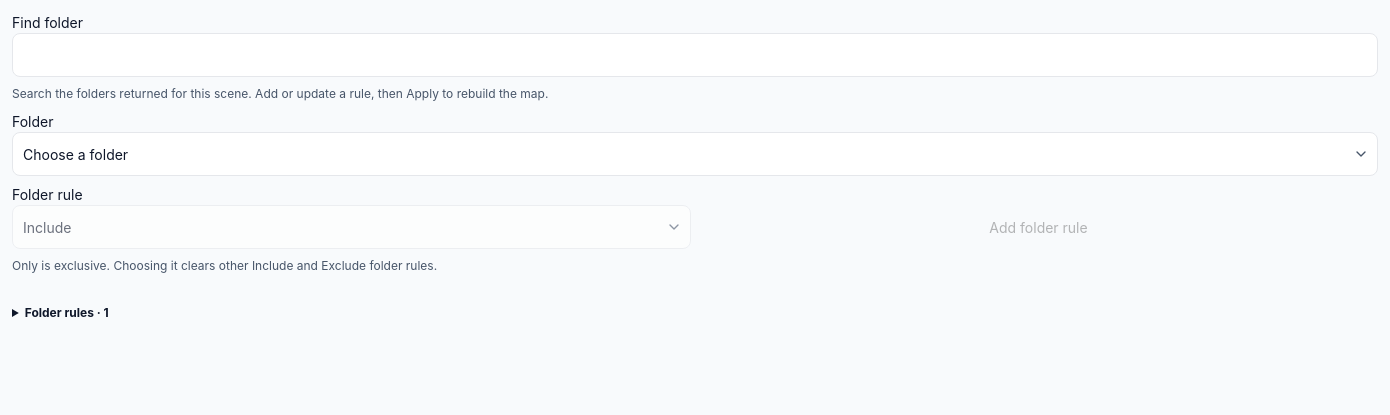
Test: WorkspaceGraphFolderFilters › lets a rule absent from current facets be edited and removed without inventing a count
Click the heading "Folder rules · 1" at (67, 312), box [25,305,109,320]
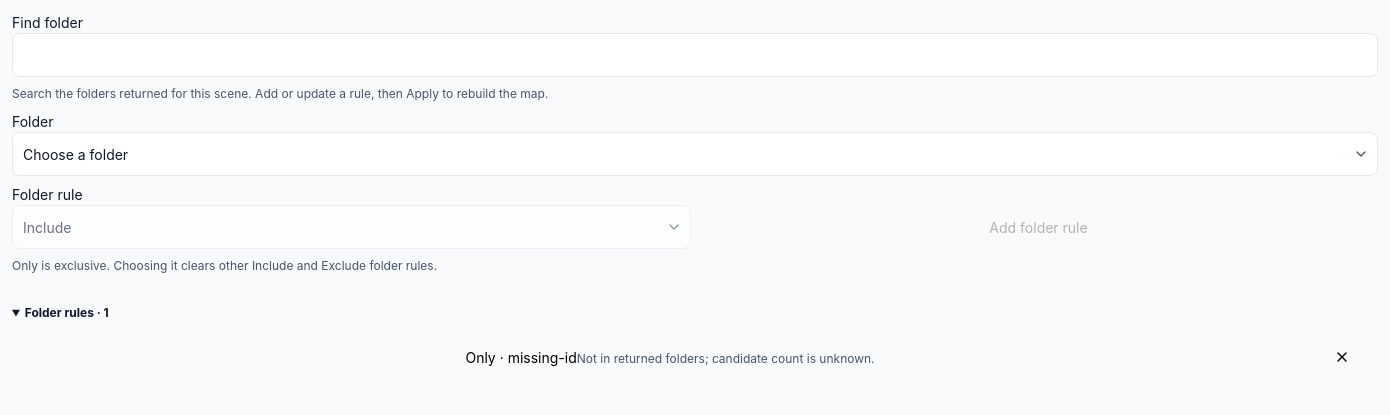
expect the button with aria-label "Edit folder rule: missing-id" shows "candidate count is unknown": met
Click the button with aria-label "Edit folder rule: missing-id" at (670, 357), box [12,335,1328,379]
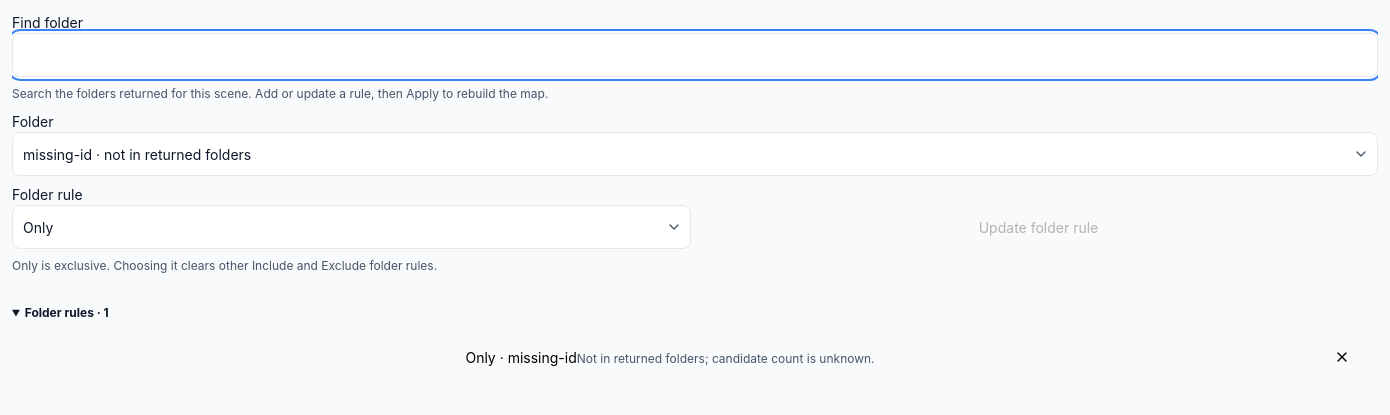
expect the dropdown labelled "Folder" shows "missing-id · not in returned folders": met, box [12,132,1378,176]
Select "Exclude" in the dropdown labelled "Folder rule" at (352, 227), box [12,205,691,249]
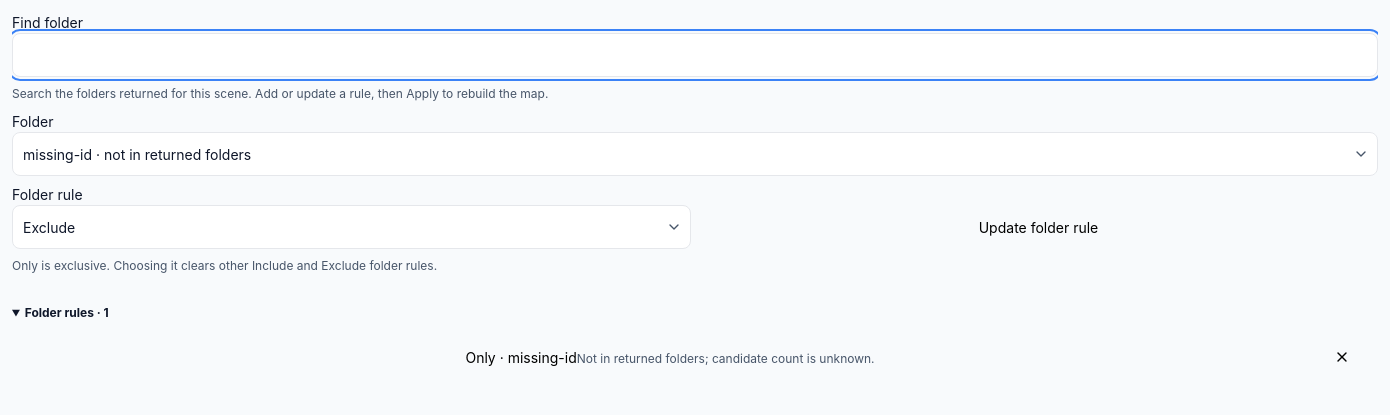
Click the button "Update folder rule" at (1038, 227), box [699,205,1378,249]
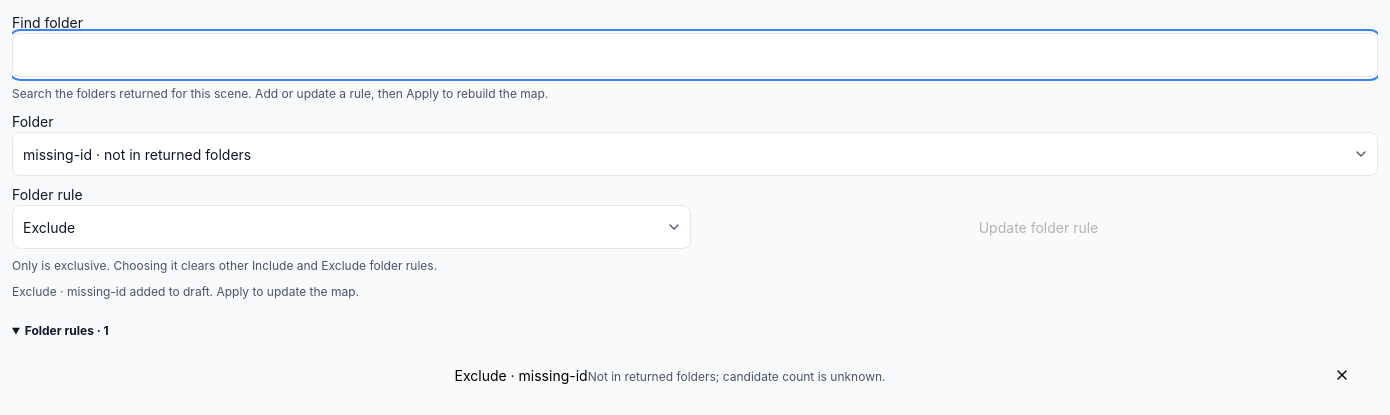
Click the button named "Remove folder rule: missing-id" at (1356, 375), box [1334,353,1378,397]
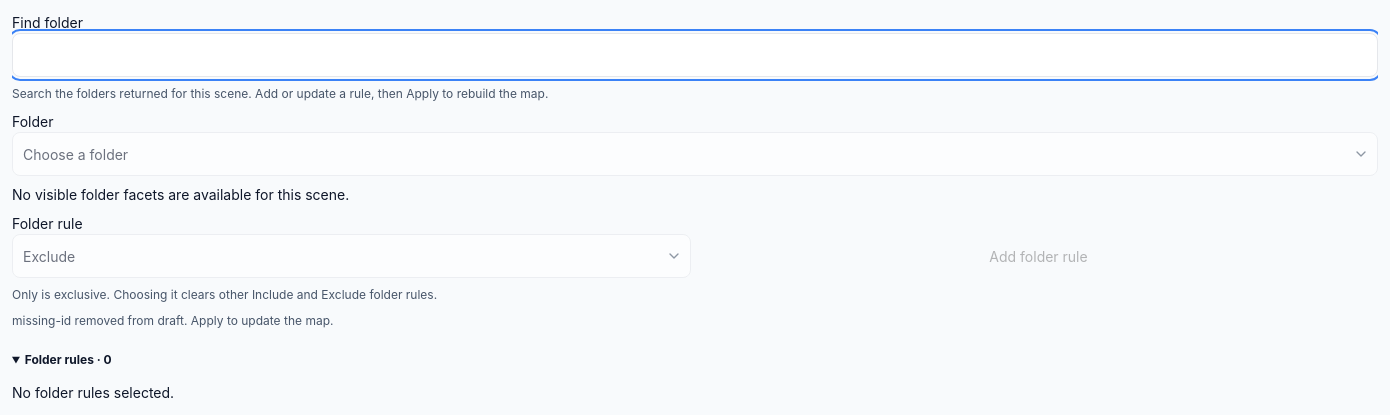
expect the dropdown labelled "Folder" is disabled: met, box [12,132,1378,176]
